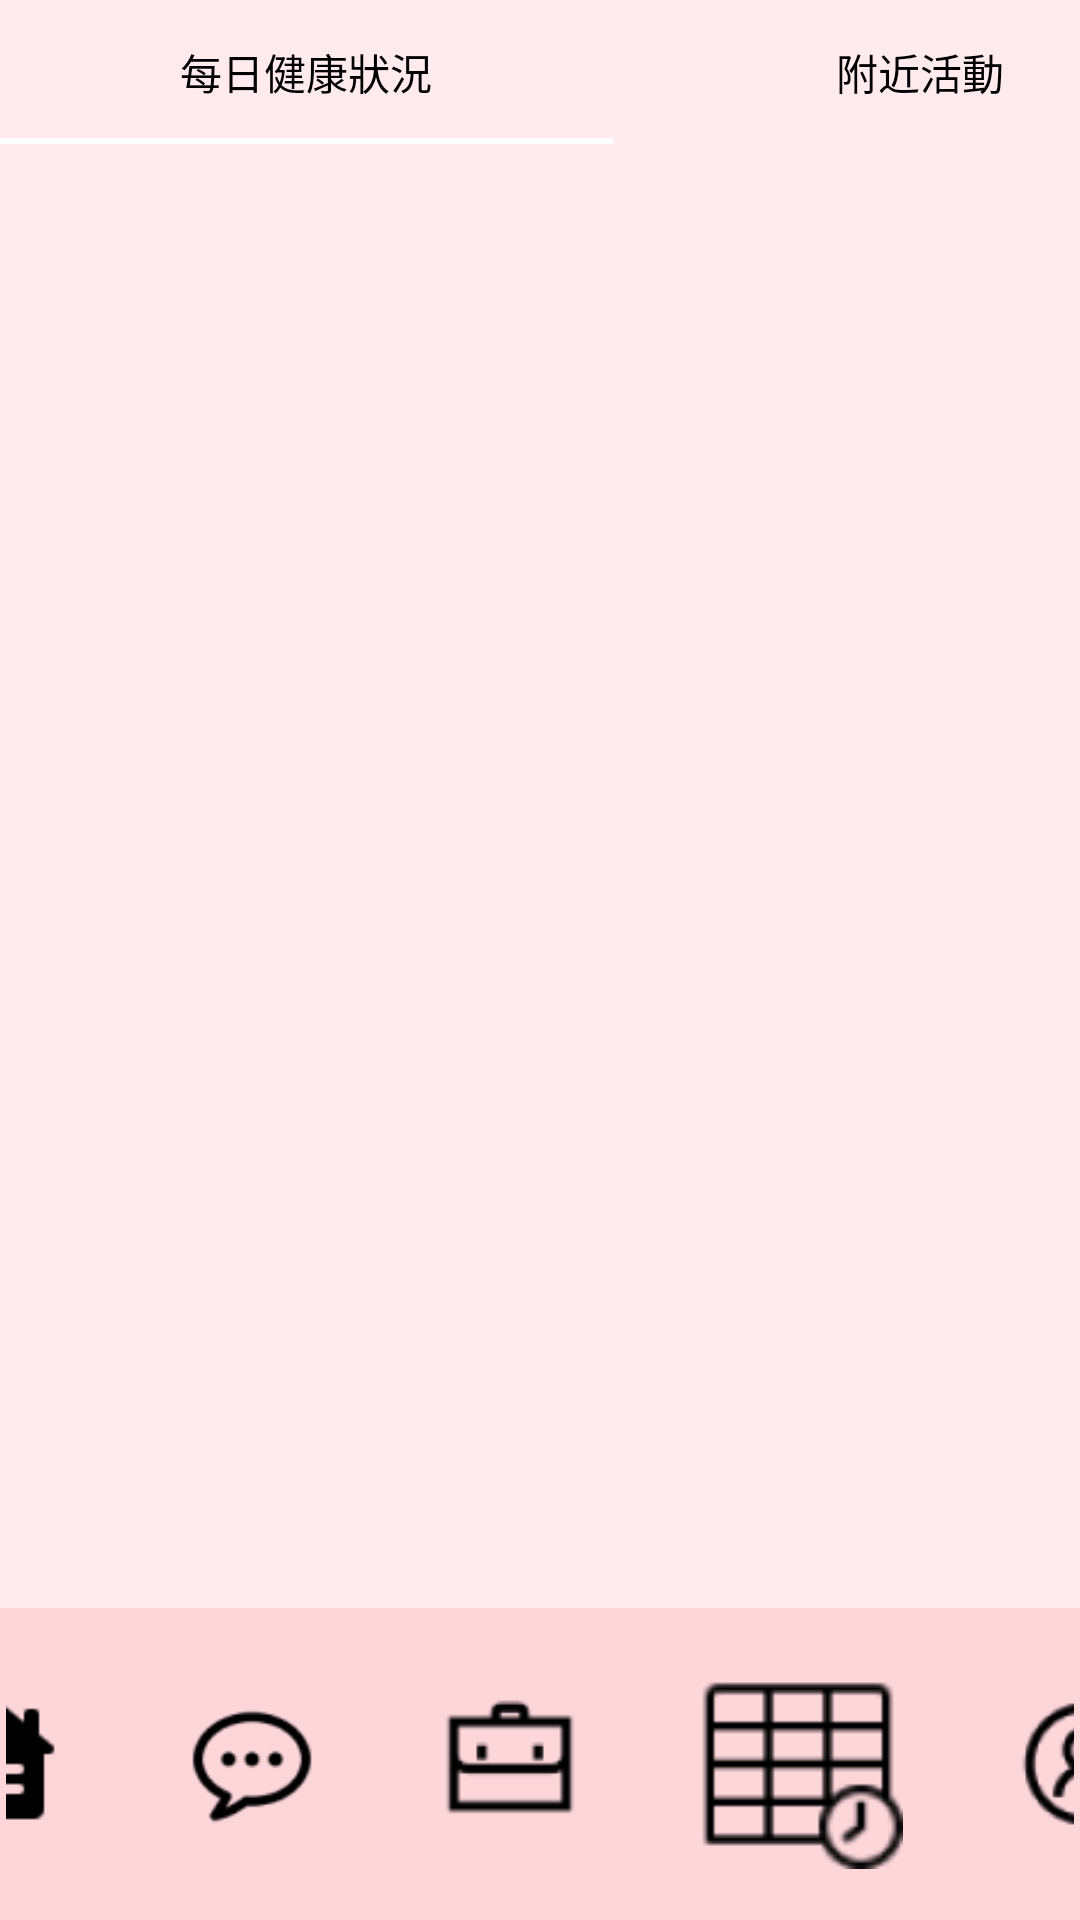

Where icons sit on this 1080 × 1920 app screen, as [x1,y1,x2,y2]:
chatbubble: [192,1711,312,1822]
timetable: [703,1682,903,1869]
